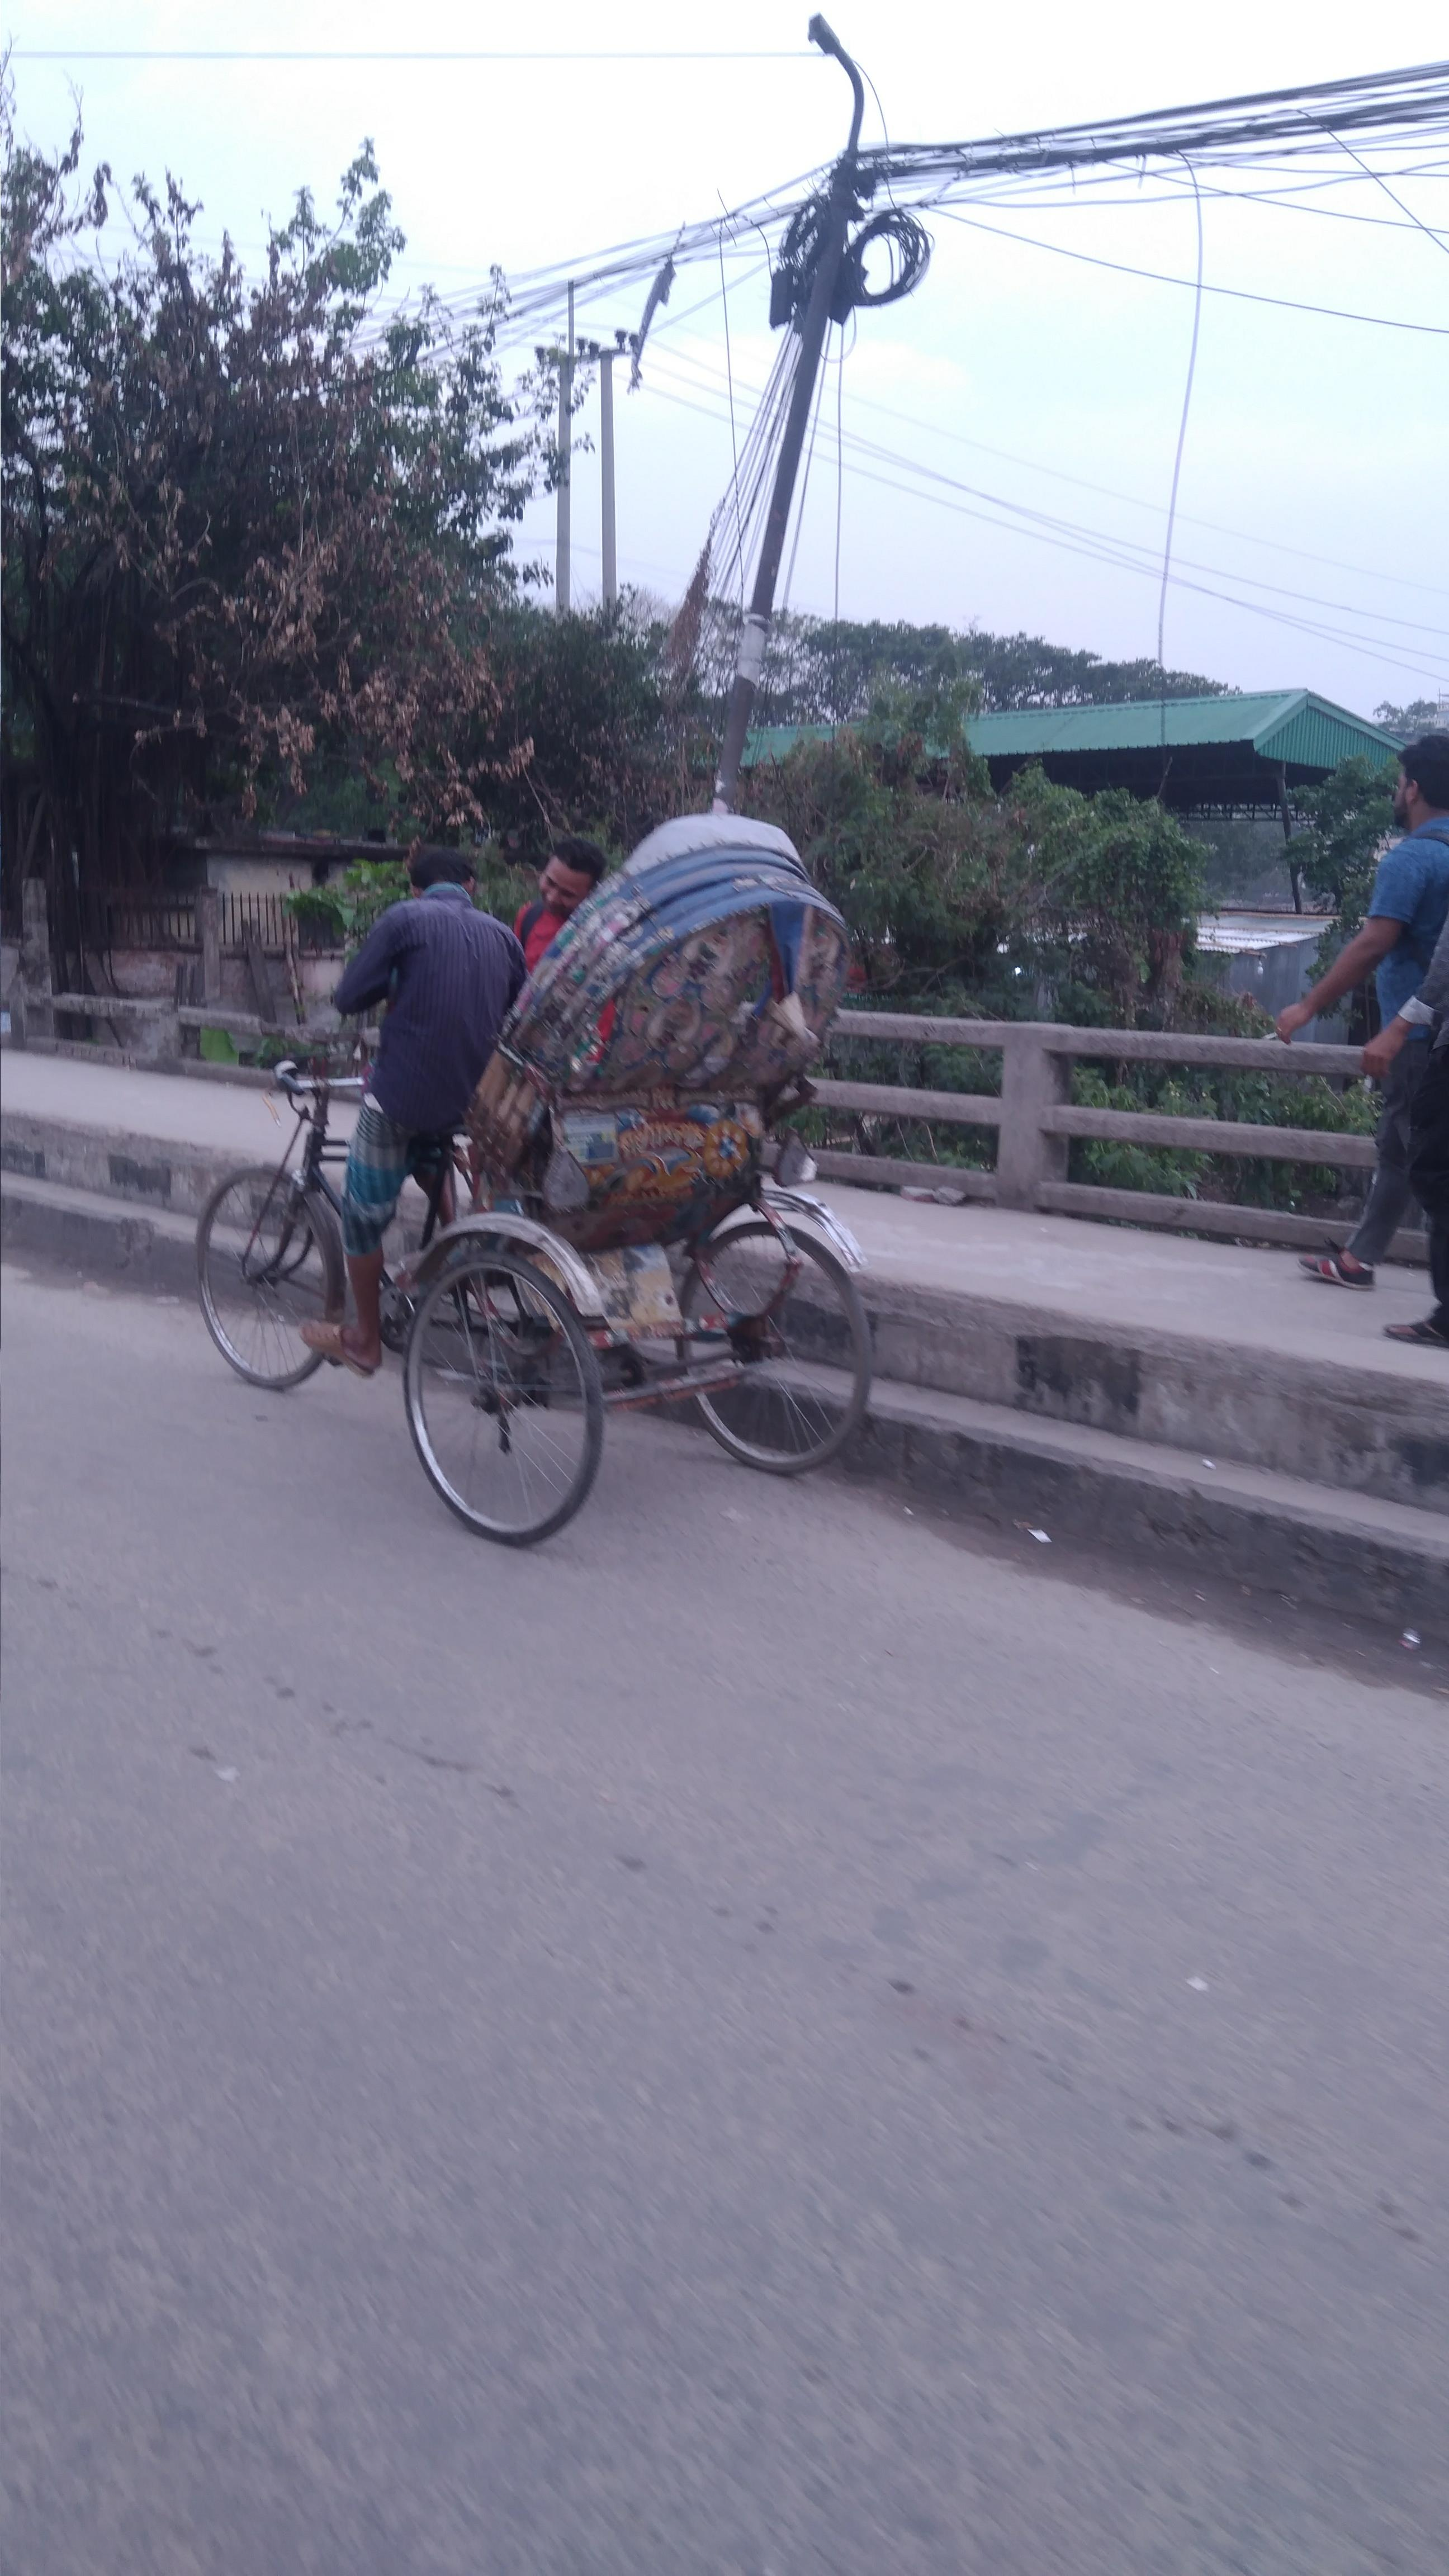Rickshaw: (218, 800, 892, 1523)
